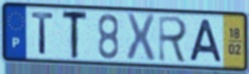8: (97, 12, 120, 61)
A: (188, 18, 224, 64)
R: (157, 14, 189, 65)
T: (61, 10, 90, 61), (30, 10, 56, 56)
X: (125, 11, 157, 63)
